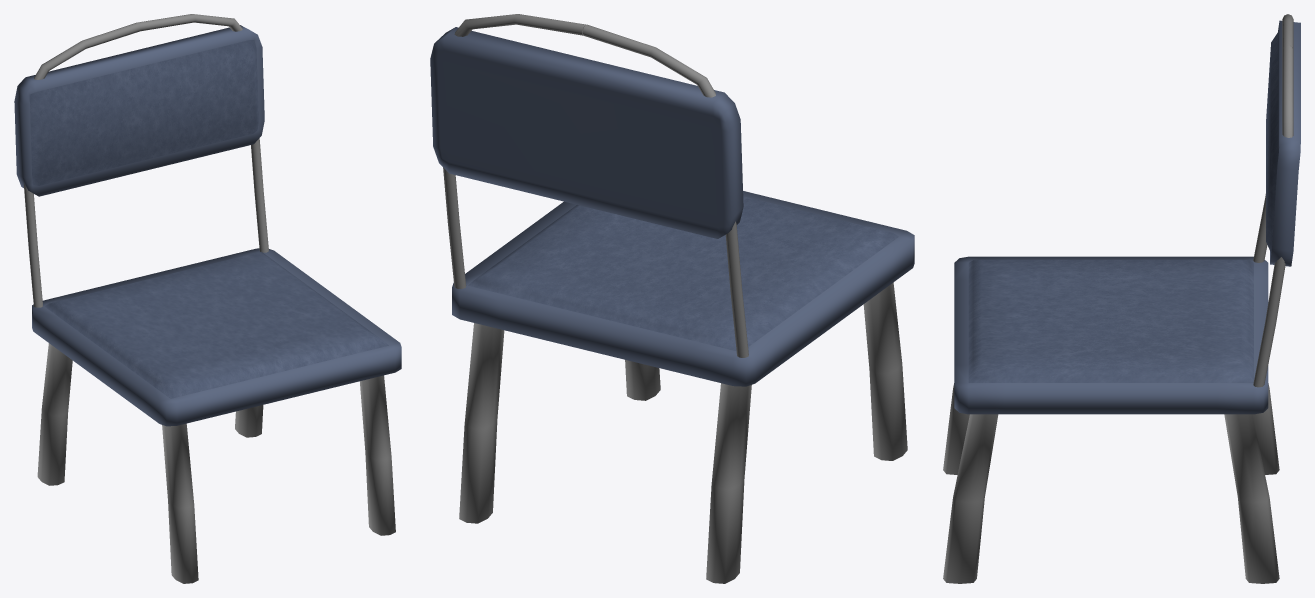
Rendered from Chair.fbx.
The picture shows the model from 3 angles, left to right: view 1: azimuth 30°, elevation 25°; view 2: azimuth 150°, elevation 25°; view 3: azimuth 270°, elevation 25°; orthographic projection. The views are drawn at different scales.
Parts seen in each view (by area): view 1: Chair; view 2: Chair; view 3: Chair.
Part boxes in pixels (x1,y1,x2,y2): Chair: (14,14,401,583); Chair: (430,14,914,583); Chair: (943,14,1300,583).
Size of the model in its own units: 339 by 571 by 386.
